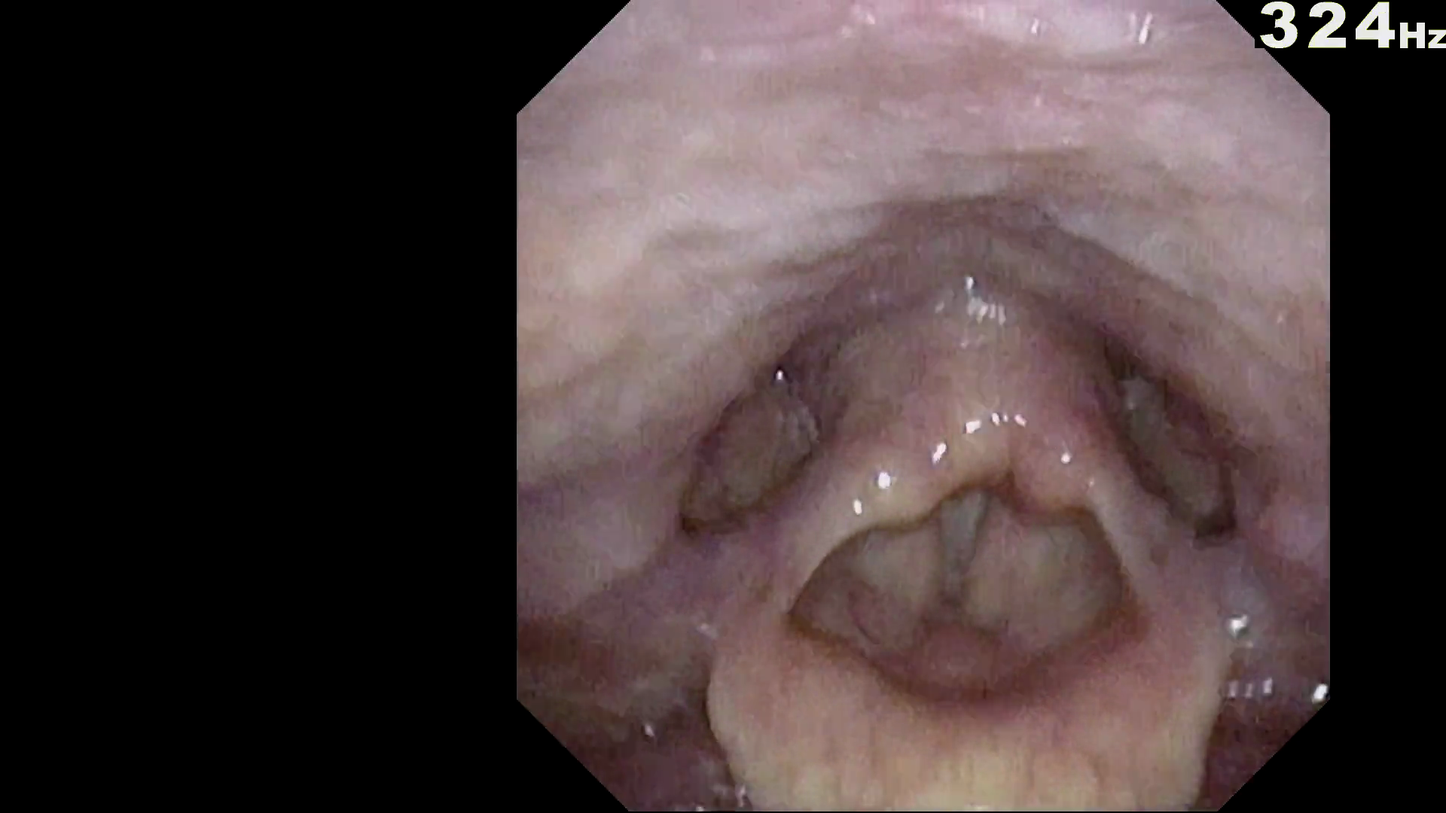epiglottis: (677, 550, 1264, 794)
trachea: (922, 488, 1021, 593)
